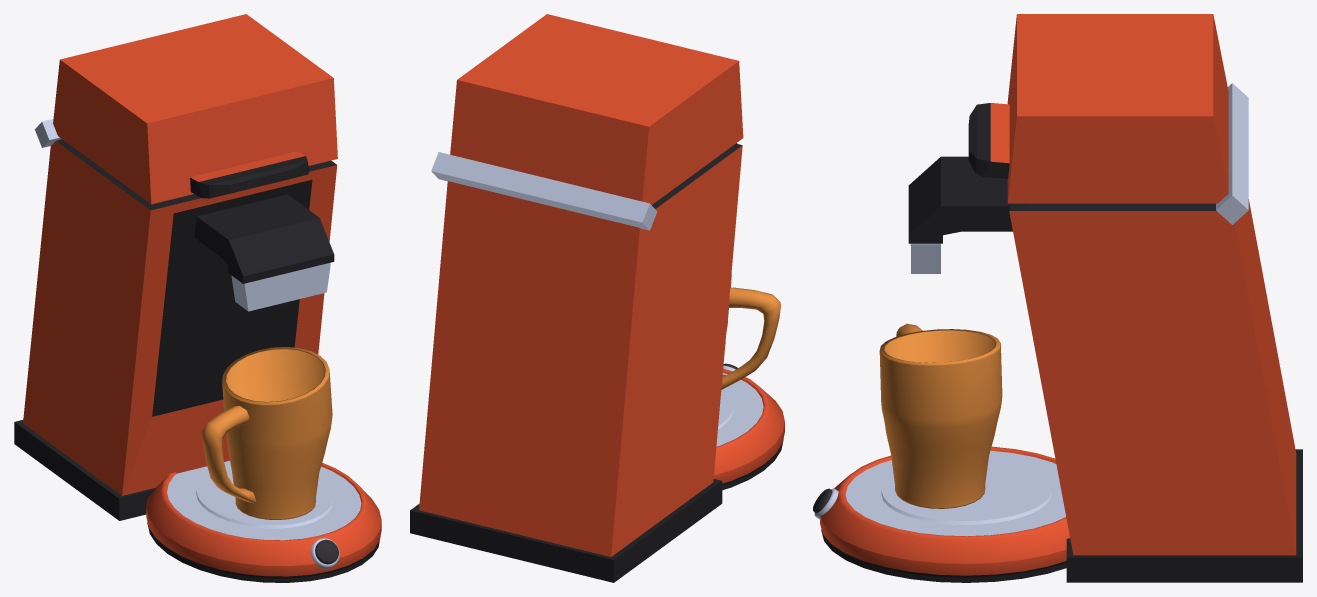
File: CoffeeMachine.glb
The picture shows the model from 3 angles, left to right: view 1: azimuth 30°, elevation 25°; view 2: azimuth 150°, elevation 25°; view 3: azimuth 270°, elevation 25°; orthographic projection. The views are drawn at different scales.
Visible parts, largest first — view 1: CoffeeMachine_Body, CoffeeMachine_Cup, CoffeeMachine_Button; view 2: CoffeeMachine_Body, CoffeeMachine_Cup; view 3: CoffeeMachine_Body, CoffeeMachine_Cup.
Part boxes in pixels (x1,y1,x2,y2): CoffeeMachine_Body: (14,14,381,582); CoffeeMachine_Cup: (202,347,332,519); CoffeeMachine_Button: (315,539,338,564); CoffeeMachine_Body: (410,14,784,582); CoffeeMachine_Cup: (721,274,780,389); CoffeeMachine_Body: (814,14,1302,582); CoffeeMachine_Cup: (879,323,1002,508).
Bounding box in the file's own units: 0.1911 × 0.3683 × 0.3519.
